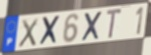1: (135, 6, 145, 36)
6: (61, 12, 81, 45)
T: (105, 8, 123, 41)
X: (38, 15, 62, 47), (80, 10, 103, 42), (17, 17, 39, 49)
